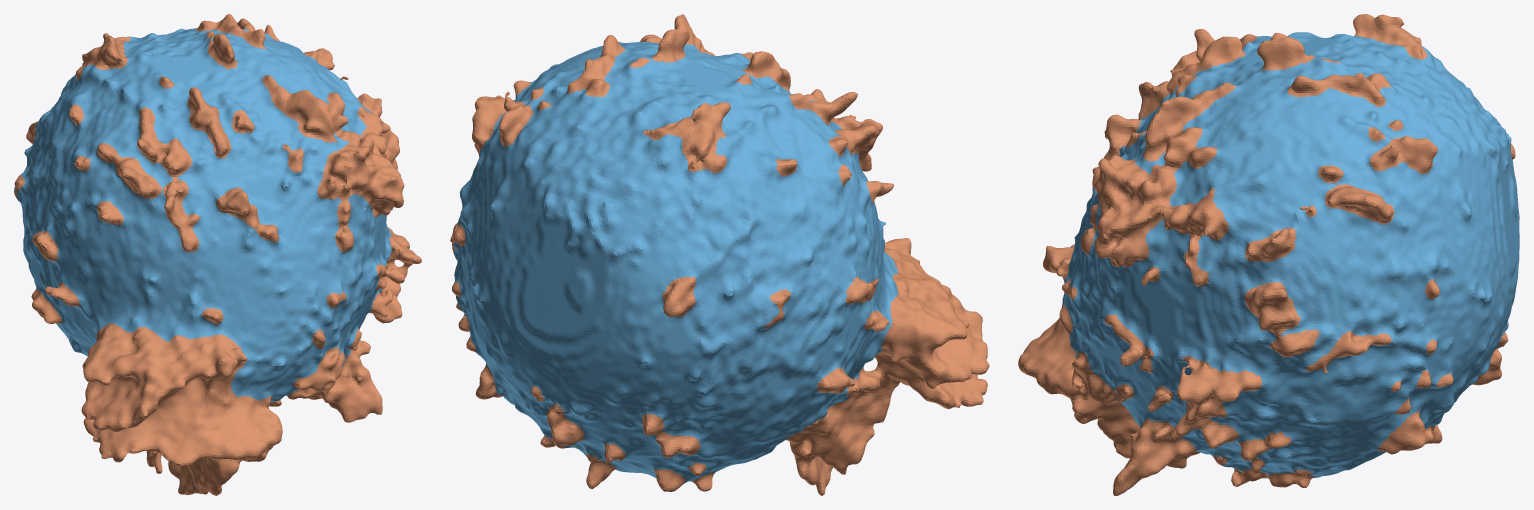
3 views of the same model, side by side, from view 1: azimuth 30°, elevation 25°; view 2: azimuth 150°, elevation 25°; view 3: azimuth 270°, elevation 25° (orthographic). The views are drawn at different scales.
Bounding box in the file's own units: 146 × 156 × 148.
